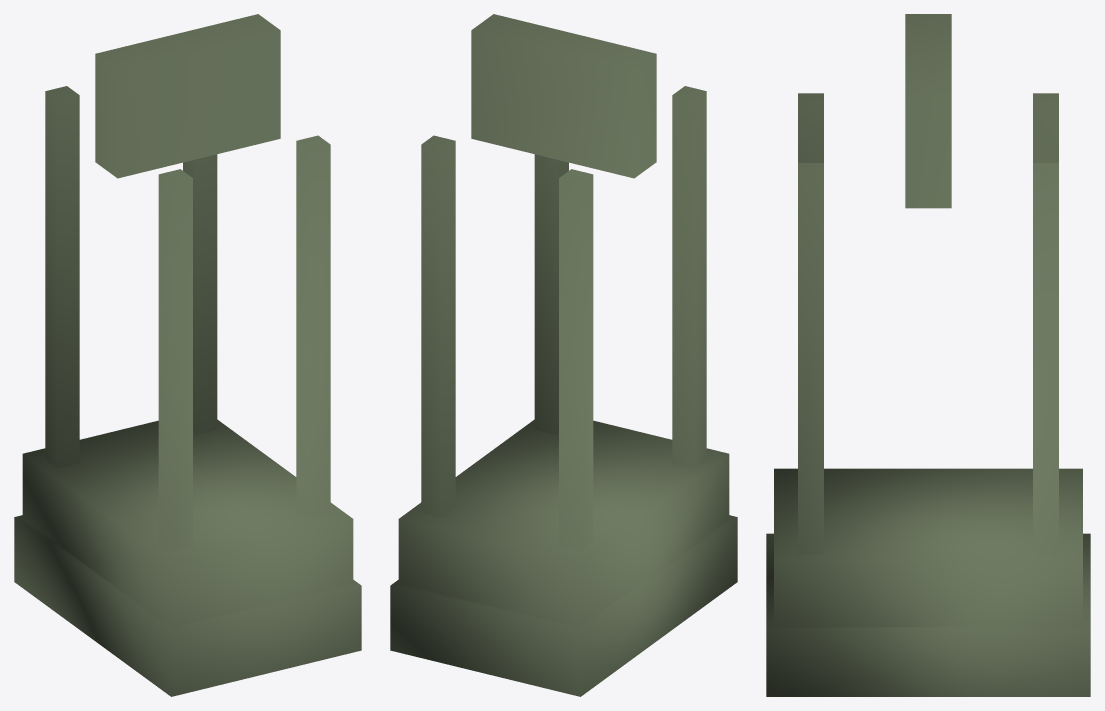
The model's file is sanctuary_of_quetzalcoatl.obj.
3 renders of one model, left to right at view 1: azimuth 30°, elevation 25°; view 2: azimuth 150°, elevation 25°; view 3: azimuth 270°, elevation 25°, orthographic. The views are drawn at different scales.
Parts seen in each view (by area): view 1: building; view 2: building; view 3: building.
Boxes of the visible parts, left/top/right/bottom form: building: left=14, top=14, right=361, bottom=696; building: left=390, top=14, right=737, bottom=696; building: left=766, top=14, right=1090, bottom=696.
Size of the model in its own units: 3.67 by 10.6 by 5.25.
